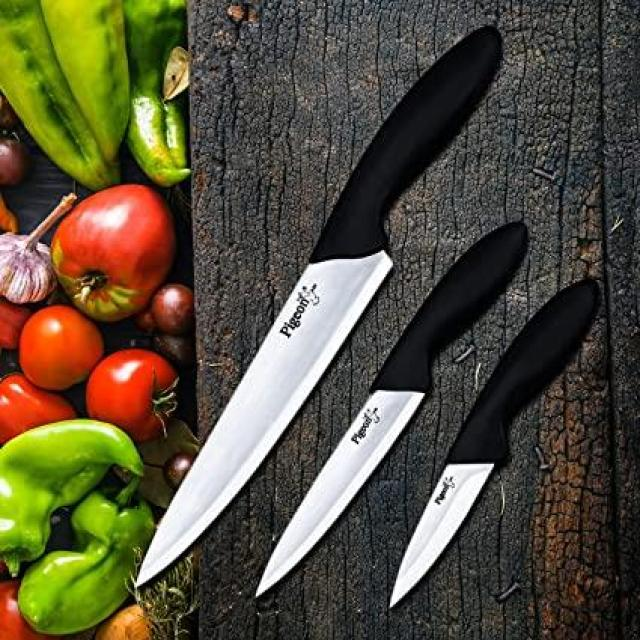weapon: (128, 22, 512, 601), (241, 215, 545, 601), (386, 276, 608, 620)
